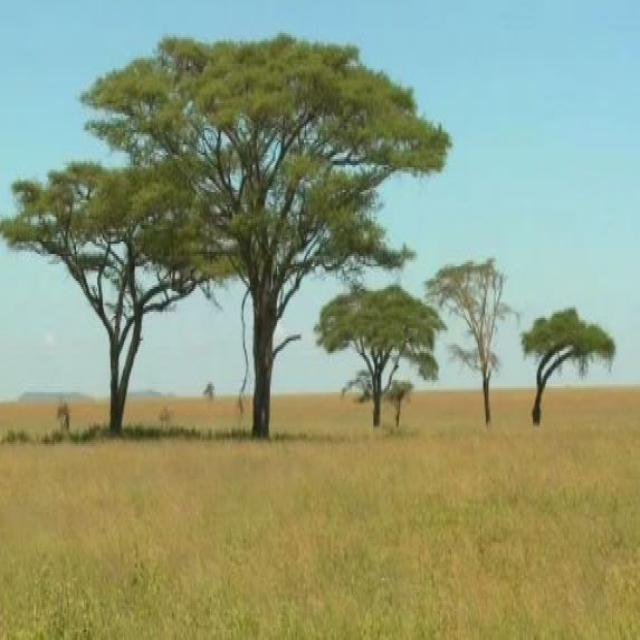Acacia: (100, 31, 430, 457), (524, 296, 612, 436)
